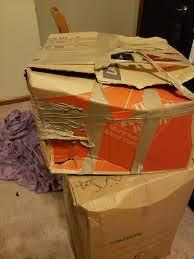damage_box: (23, 27, 194, 180)
